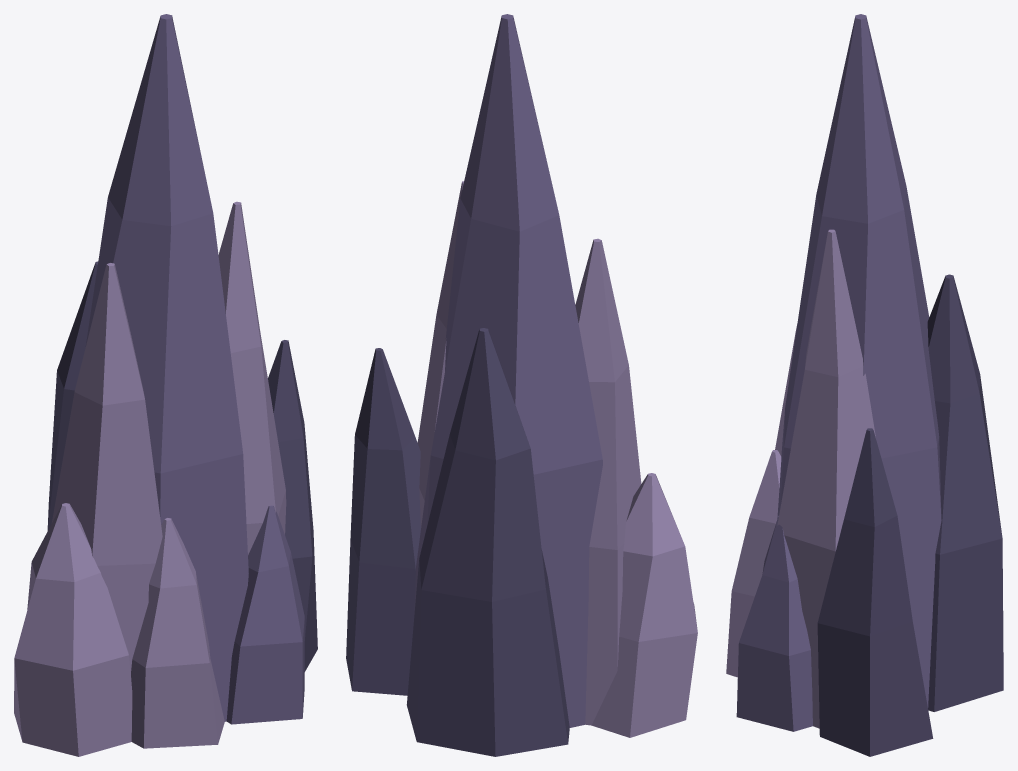
The model's file is Stage_02_妖洞钟乳石柱.glb.
3 renders of one model, left to right at view 1: azimuth 30°, elevation 25°; view 2: azimuth 150°, elevation 25°; view 3: azimuth 270°, elevation 25°, orthographic.
Visible parts, largest first — view 1: Stalag_Center, Stalag_UpperL, Stalag_LowL, Stalag_FrontL, Stalag_FrontR, Stalag_UpperR, Stalag_SideR, Stalag_Back; view 2: Stalag_Center, Stalag_Back, Stalag_SideR, Stalag_LowL, Stalag_UpperL, Stalag_UpperR; view 3: Stalag_Center, Stalag_Back, Stalag_SideR, Stalag_UpperR, Stalag_FrontR, Stalag_FrontL.
Part boxes in pixels (<box>): Stalag_Center: <box>85,14,248,721</box>; Stalag_UpperL: <box>51,263,162,673</box>; Stalag_LowL: <box>14,503,132,756</box>; Stalag_FrontL: <box>131,518,224,748</box>; Stalag_FrontR: <box>226,505,304,724</box>; Stalag_UpperR: <box>218,201,286,554</box>; Stalag_SideR: <box>268,340,317,671</box>; Stalag_Back: <box>47,261,98,530</box>; Stalag_Center: <box>414,14,602,727</box>; Stalag_Back: <box>406,328,569,756</box>; Stalag_SideR: <box>346,348,420,695</box>; Stalag_LowL: <box>591,473,697,737</box>; Stalag_UpperL: <box>575,238,641,725</box>; Stalag_UpperR: <box>417,181,463,527</box>; Stalag_Center: <box>777,14,941,707</box>; Stalag_Back: <box>927,274,1003,711</box>; Stalag_SideR: <box>817,428,933,756</box>; Stalag_UpperR: <box>777,229,875,728</box>; Stalag_FrontR: <box>736,516,812,731</box>; Stalag_FrontL: <box>726,450,781,677</box>.
Size of the model in its own units: 2.44 by 4.8 by 1.82.
